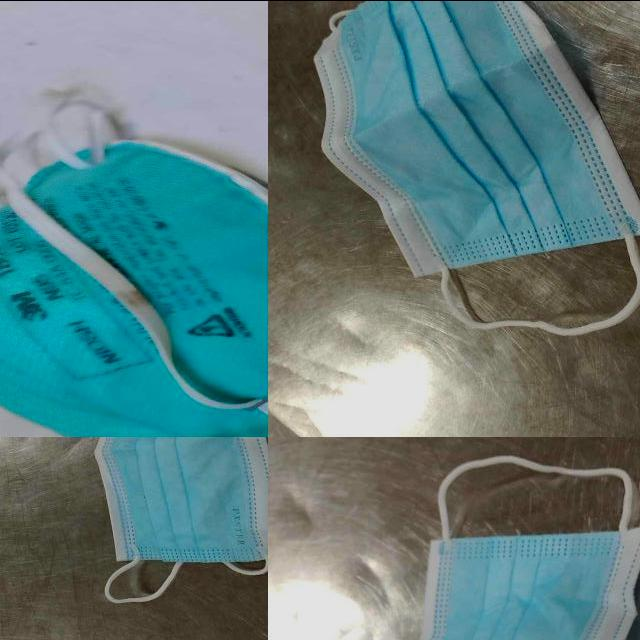General: (0, 2, 639, 638), (311, 1, 639, 337)
Infectious: (0, 134, 268, 439)
